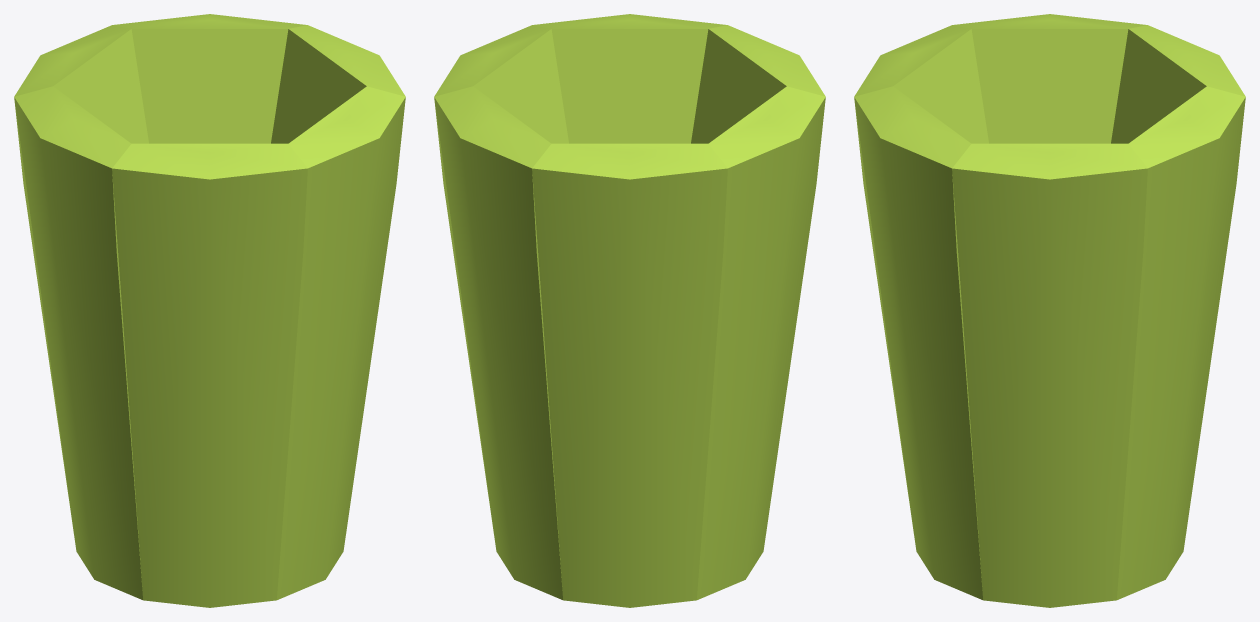
File: trash_can_convex.fbx
The picture shows the model from 3 angles, left to right: view 1: azimuth 30°, elevation 25°; view 2: azimuth 150°, elevation 25°; view 3: azimuth 270°, elevation 25°; orthographic projection.
Visible parts, largest first — view 1: trash_can_convex.004, trash_can_convex.005, trash_can_convex.003, trash_can_convex.001, trash_can_convex.002, trash_can_convex.006; view 2: trash_can_convex.002, trash_can_convex.003, trash_can_convex.001, trash_can_convex.005, trash_can_convex.006, trash_can_convex.004; view 3: trash_can_convex.006, trash_can_convex.001, trash_can_convex.005, trash_can_convex.003, trash_can_convex.004, trash_can_convex.002.
Part boxes in pixels (left/top/right/bottom): trash_can_convex.004: left=112, top=143, right=307, bottom=607; trash_can_convex.005: left=277, top=86, right=405, bottom=599; trash_can_convex.003: left=14, top=86, right=142, bottom=599; trash_can_convex.001: left=112, top=14, right=307, bottom=143; trash_can_convex.002: left=14, top=25, right=148, bottom=537; trash_can_convex.006: left=271, top=25, right=405, bottom=143; trash_can_convex.002: left=532, top=143, right=727, bottom=607; trash_can_convex.003: left=697, top=86, right=825, bottom=599; trash_can_convex.001: left=434, top=86, right=562, bottom=599; trash_can_convex.005: left=532, top=14, right=727, bottom=143; trash_can_convex.006: left=434, top=25, right=568, bottom=537; trash_can_convex.004: left=691, top=25, right=825, bottom=143; trash_can_convex.006: left=952, top=143, right=1147, bottom=607; trash_can_convex.001: left=1117, top=86, right=1245, bottom=599; trash_can_convex.005: left=854, top=86, right=982, bottom=599; trash_can_convex.003: left=952, top=14, right=1147, bottom=143; trash_can_convex.004: left=854, top=25, right=988, bottom=537; trash_can_convex.002: left=1111, top=25, right=1245, bottom=143.
Size of the model in its own units: 11.42 by 11.42 by 14.96.
